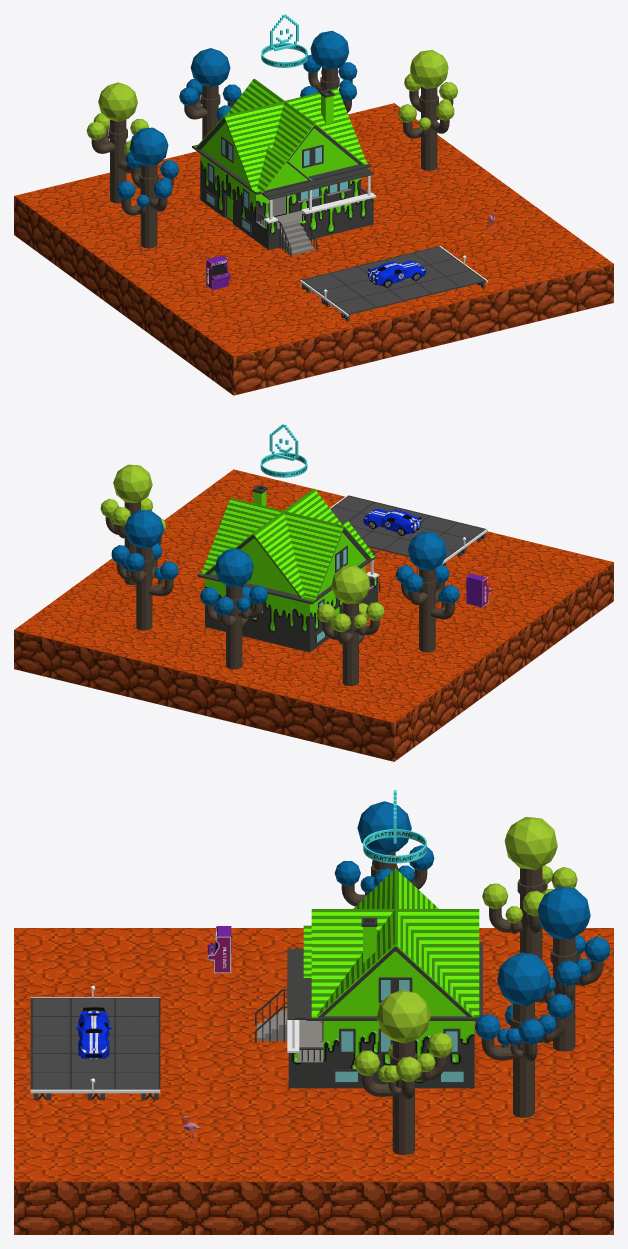
3 renders of one model, top to bottom at view 1: azimuth 30°, elevation 25°; view 2: azimuth 150°, elevation 25°; view 3: azimuth 270°, elevation 25°, orthographic. The views are drawn at different scales.
Visible parts, largest first — view 1: Cube.001, Cube.754, VEHICLES_RACING_CAR, TYPE_PREMIUM, OBJRANDOM_ARCADE; view 2: Cube.001, Cube.754, VEHICLES_RACING_CAR, TYPE_PREMIUM, OBJRANDOM_ARCADE; view 3: Cube.001, Cube.754, VEHICLES_RACING_CAR, TYPE_PREMIUM, OBJRANDOM_ARCADE.
Boxes of the visible parts, box(x1,y1,x2,y2) form: Cube.001: box(14, 30, 613, 395); Cube.754: box(192, 78, 376, 256); VEHICLES_RACING_CAR: box(367, 260, 425, 287); TYPE_PREMIUM: box(261, 14, 307, 67); OBJRANDOM_ARCADE: box(206, 255, 230, 290); Cube.001: box(14, 464, 613, 761); Cube.754: box(197, 485, 380, 652); VEHICLES_RACING_CAR: box(363, 508, 421, 535); TYPE_PREMIUM: box(260, 424, 307, 477); OBJRANDOM_ARCADE: box(466, 573, 490, 607); Cube.001: box(14, 801, 613, 1234); Cube.754: box(255, 869, 482, 1088); VEHICLES_RACING_CAR: box(76, 1007, 111, 1058); TYPE_PREMIUM: box(363, 790, 426, 863); OBJRANDOM_ARCADE: box(207, 926, 231, 973).
Bounding box in the file's own units: 4000 × 2410 × 4000.
Materials: 46 (6 with a texture image).
